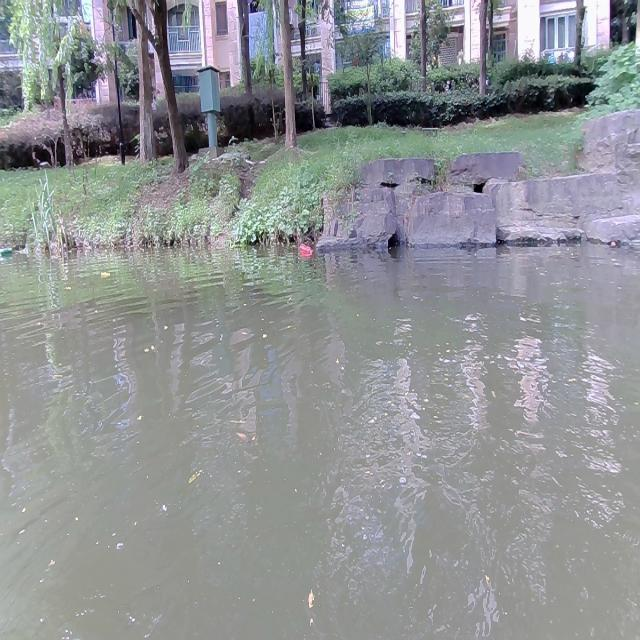bottle: (297, 241, 314, 257), (0, 245, 13, 256)
